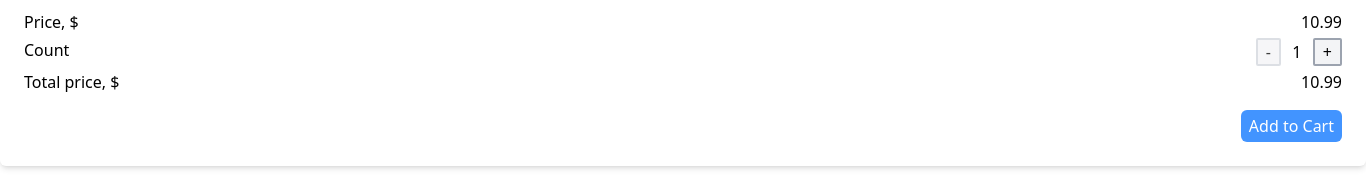
Test: AddToCart component › should decrease count when minus button is clicked
The width and height of the screenshot is (1366, 187).
Click the button "+" at (1327, 52), box [1313,38,1342,66]
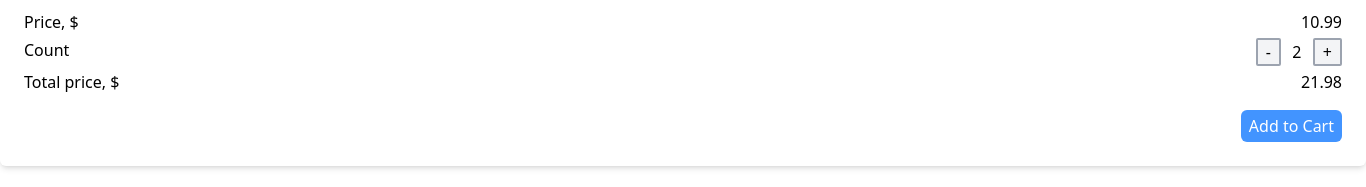
Expected: the number field holds "2", [1281,38,1313,66]
Click the button "-" at (1268, 52), box [1256,38,1281,66]
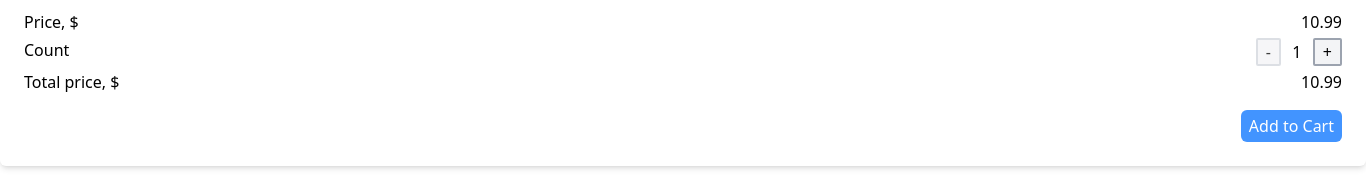
Expected: the number field holds "1", [1281,38,1313,66]
